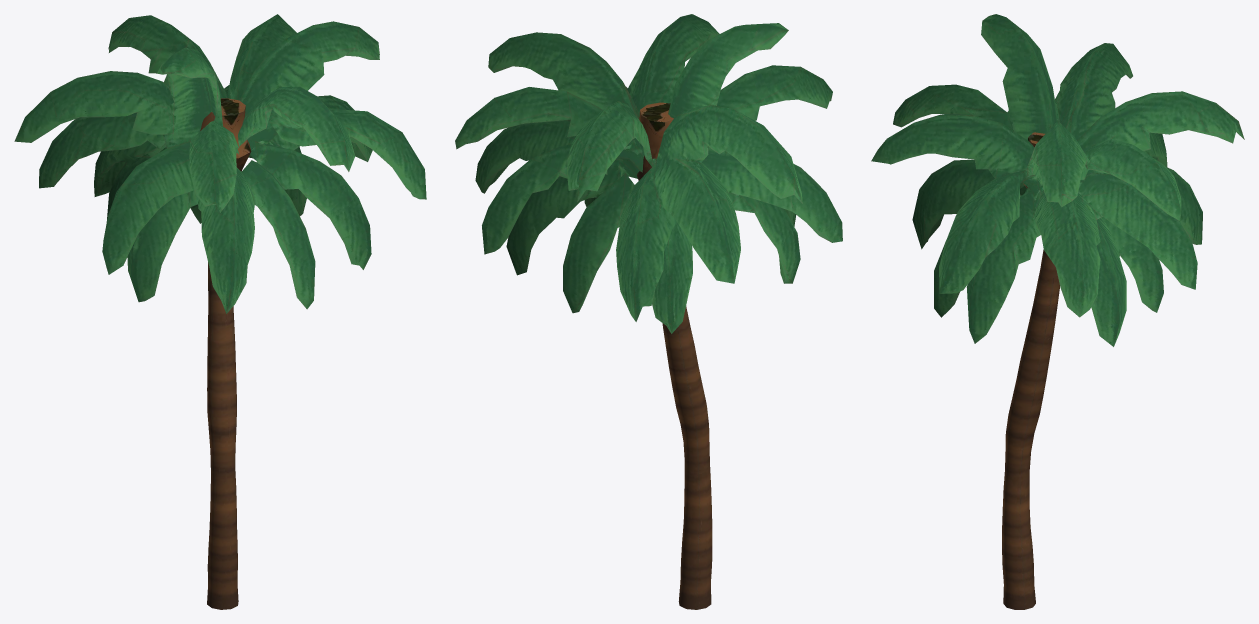
File: palm_a.glb
3 renders of one model, left to right at view 1: azimuth 30°, elevation 25°; view 2: azimuth 150°, elevation 25°; view 3: azimuth 270°, elevation 25°, orthographic. The views are drawn at different scales.
Visible parts, largest first — view 1: body; view 2: body; view 3: body.
Part boxes in pixels (x1,y1,x2,y2): body: (14, 14, 426, 609); body: (455, 14, 842, 609); body: (871, 14, 1244, 609).
Bounding box in the file's own units: 5.39 × 8.67 × 5.25.
2 materials, 2 textured.
